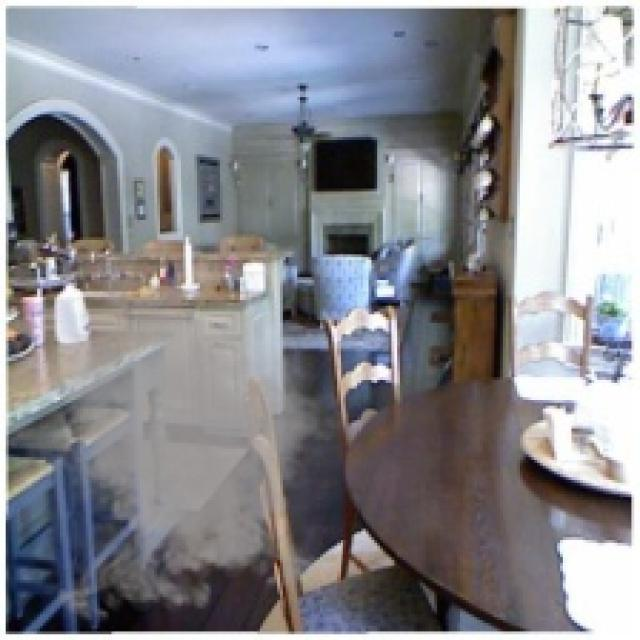Smoke: (2, 266, 372, 632)
